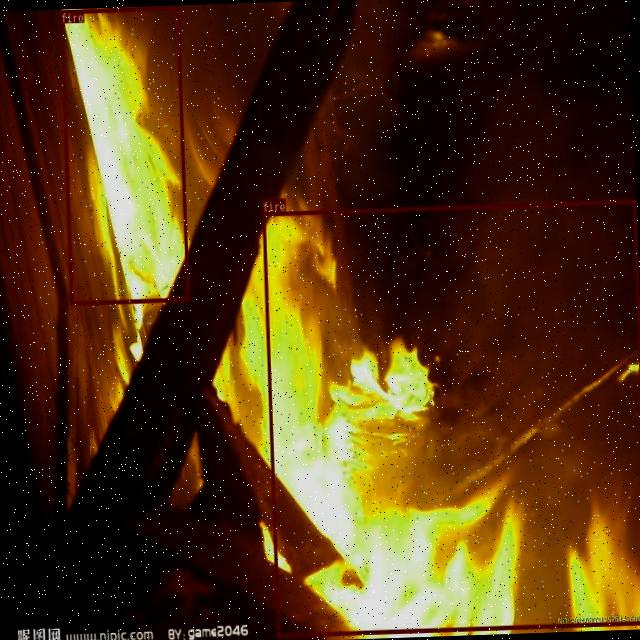fire: (261, 198, 640, 636), (59, 6, 188, 304)
